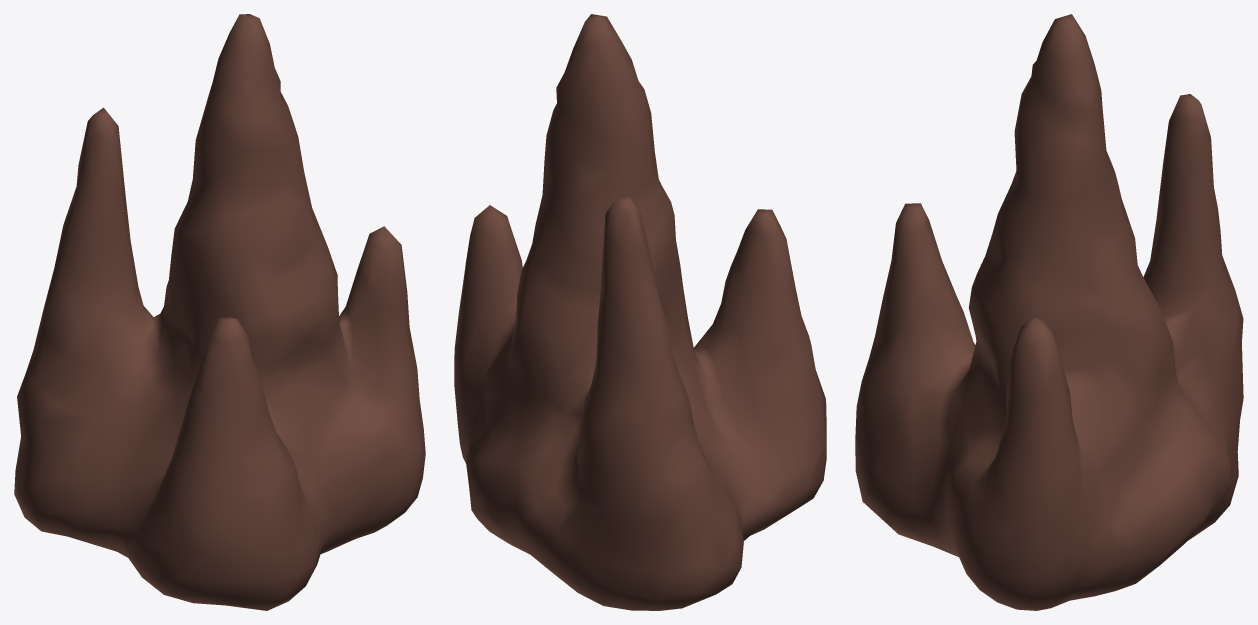
Rendered from vox_stalagmite_cluster02.fbx.
The picture shows the model from 3 angles, left to right: view 1: azimuth 30°, elevation 25°; view 2: azimuth 150°, elevation 25°; view 3: azimuth 270°, elevation 25°; orthographic projection. The views are drawn at different scales.
Visible parts, largest first — view 1: vox_stalactite_cluster02.001; view 2: vox_stalactite_cluster02.001; view 3: vox_stalactite_cluster02.001.
Part boxes in pixels (left/top/right/bottom): vox_stalactite_cluster02.001: left=14, top=14, right=425, bottom=610; vox_stalactite_cluster02.001: left=454, top=14, right=826, bottom=610; vox_stalactite_cluster02.001: left=855, top=14, right=1243, bottom=610.
Bounding box in the file's own units: 58.27 × 90.13 × 57.03.
